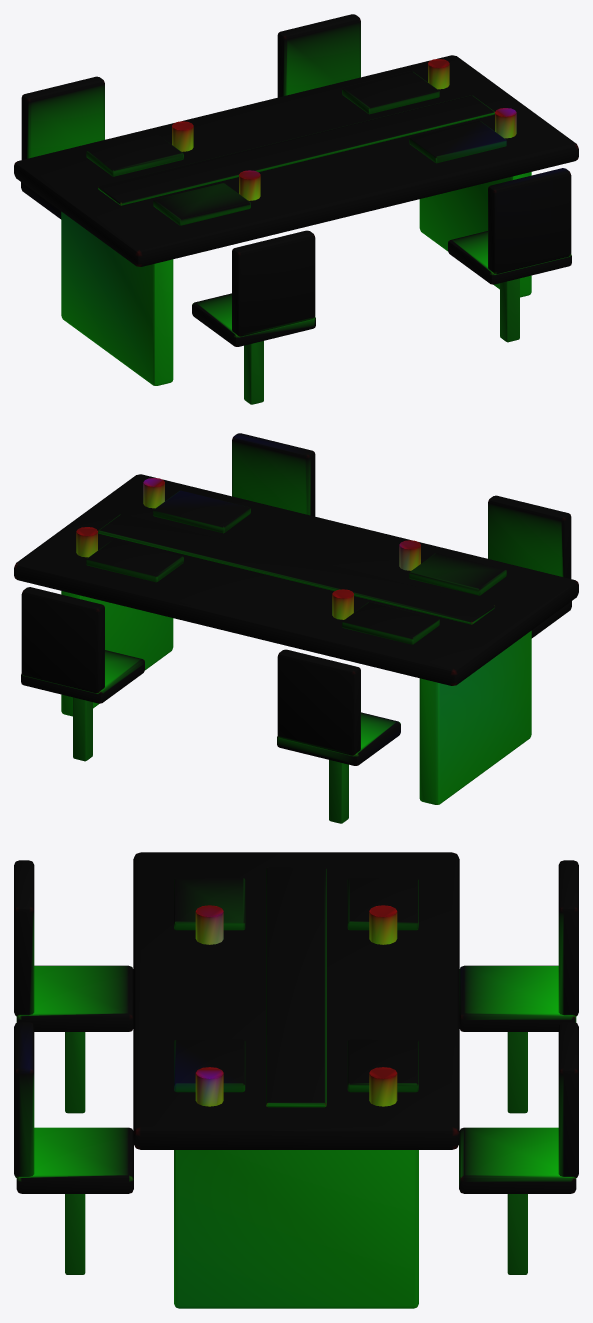
Rendered from hero_dining_set.glb.
The picture shows the model from 3 angles, top to bottom: view 1: azimuth 30°, elevation 25°; view 2: azimuth 150°, elevation 25°; view 3: azimuth 270°, elevation 25°; orthographic projection. The views are drawn at different scales.
Parts seen in each view (by area): view 1: HeroDiningSet; view 2: HeroDiningSet; view 3: HeroDiningSet.
Boxes of the visible parts, box(x1,y1,x2,y2) form: HeroDiningSet: box(14, 14, 578, 404); HeroDiningSet: box(14, 433, 578, 823); HeroDiningSet: box(14, 852, 578, 1308).
Bounding box in the file's own units: 2.6 × 0.99 × 2.21.
